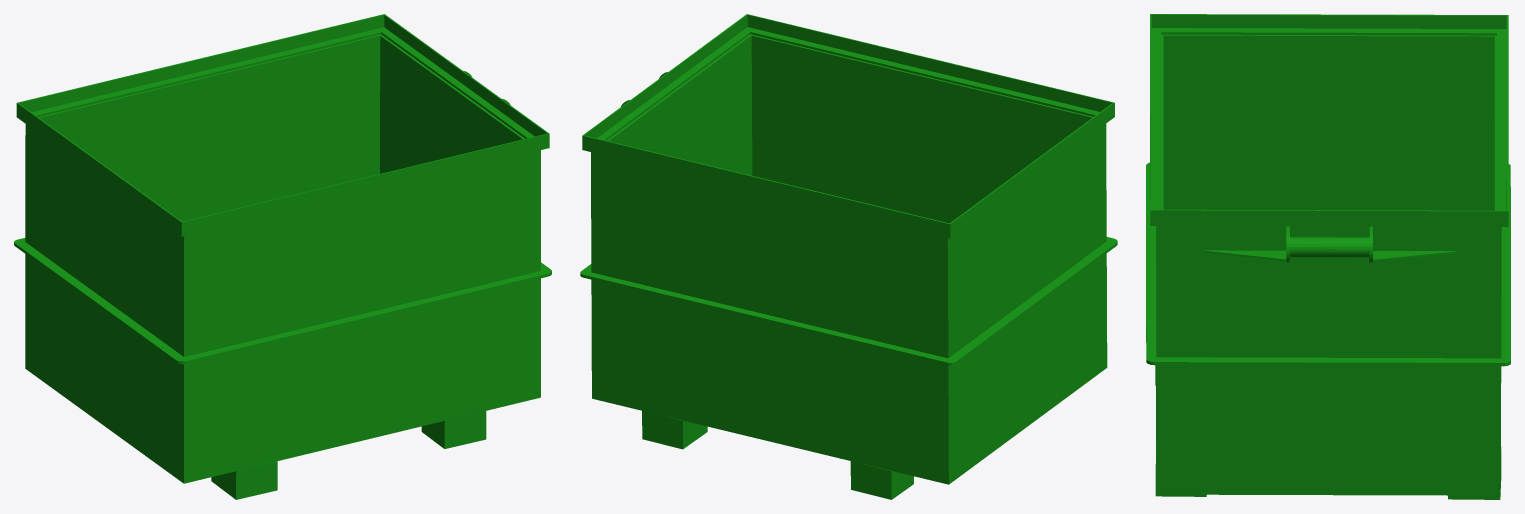
The model's file is Schüttbox3D.dae.
3 renders of one model, left to right at view 1: azimuth 30°, elevation 25°; view 2: azimuth 150°, elevation 25°; view 3: azimuth 270°, elevation 25°, orthographic. The views are drawn at different scales.
Visible parts, largest first — view 1: node0; view 2: node0; view 3: node0.
Part boxes in pixels (x1,y1,x2,y2): node0: [14, 14, 551, 499]; node0: [580, 14, 1117, 499]; node0: [1146, 14, 1510, 499].
Bounding box in the file's own units: 1.44 × 1.06 × 1.03.
